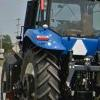Tractor: (12, 6, 100, 100)
